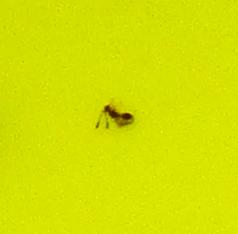Hymenoptera: (100, 100, 138, 134)
